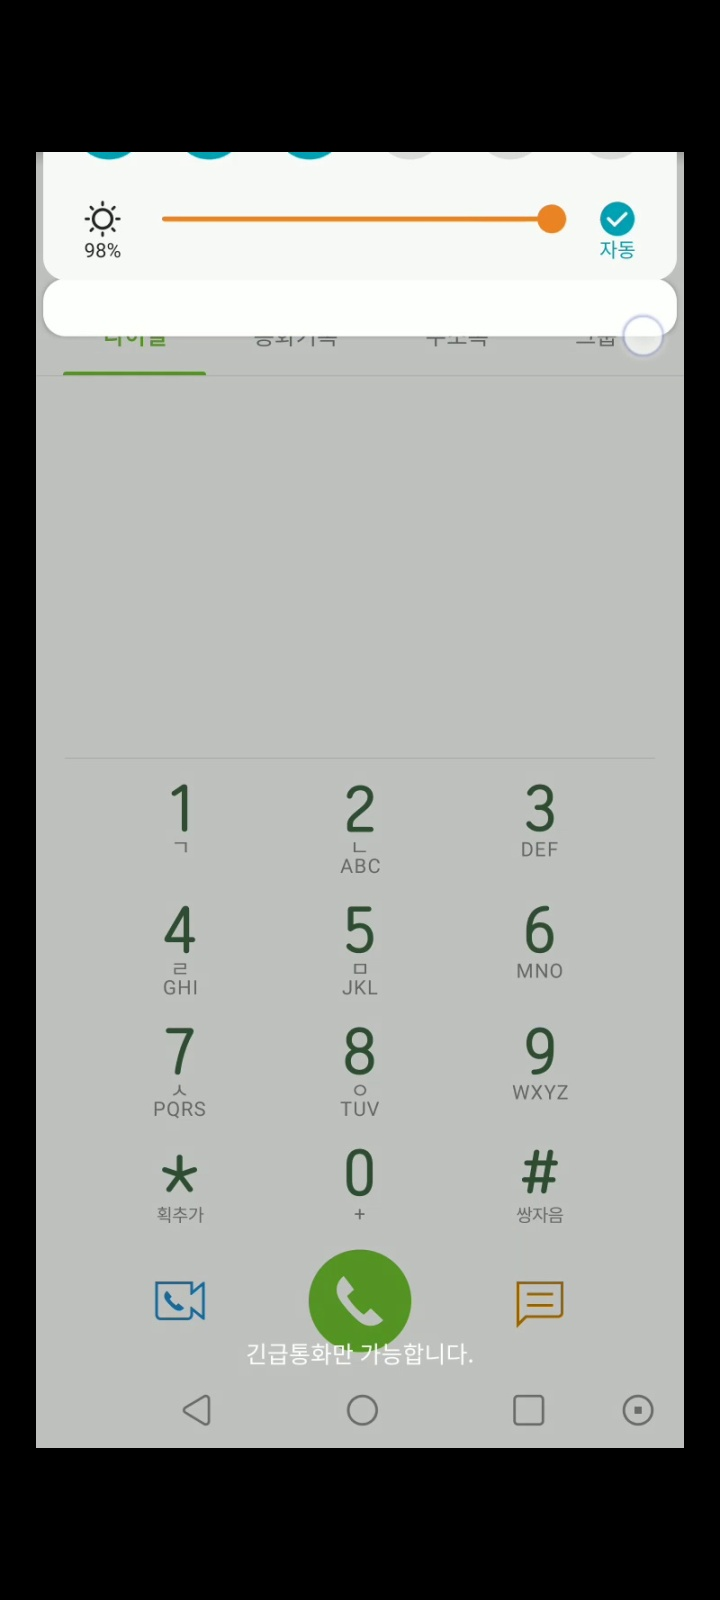Cursor: (621, 314, 666, 359)
